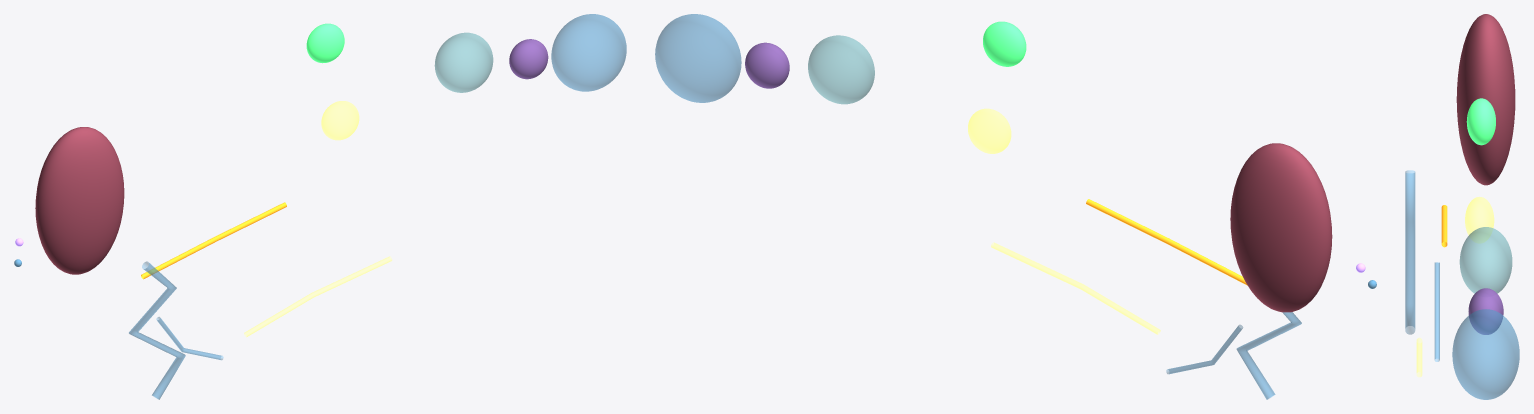
The model's file is equilibre_hydrosode_premium.glb.
3 views of the same model, side by side, from view 1: azimuth 30°, elevation 25°; view 2: azimuth 150°, elevation 25°; view 3: azimuth 270°, elevation 25° (orthographic). The views are drawn at different scales.
Parts seen in each view (by area): view 1: ORGAN_rein_regulation_hydrosodee, CELL_hypotonique_cellule_gonflee, CELL_hydratation_cellulaire_normale, ORGAN_nephron_tubule_collecteur, CELL_hypertonique_cellule_retractee, SENSOR_osmorecepteurs_hypothalamiques, SENSOR_barorecepteurs_sino_carotidiens, FLOW_ADH_vers_rein, FLOW_aldosterone_vers_rein; view 2: ORGAN_rein_regulation_hydrosodee, CELL_hypotonique_cellule_gonflee, CELL_hydratation_cellulaire_normale, CELL_hypertonique_cellule_retractee, SENSOR_barorecepteurs_sino_carotidiens, SENSOR_osmorecepteurs_hypothalamiques, FLOW_ADH_vers_rein, FLOW_aldosterone_vers_rein, ORGAN_nephron_tubule_collecteur; view 3: ORGAN_rein_regulation_hydrosodee, CELL_hypotonique_cellule_gonflee, CELL_hydratation_cellulaire_normale, ORGAN_nephron_tubule_collecteur, CELL_hypertonique_cellule_retractee, SENSOR_barorecepteurs_sino_carotidiens, SENSOR_osmorecepteurs_hypothalamiques, FLOW_reabsorption_eau_Na, FLOW_aldosterone_vers_rein, FLOW_ADH_vers_rein.
Boxes of the visible parts, <box> form: ORGAN_rein_regulation_hydrosodee: <box>35,127,124,274</box>; CELL_hypotonique_cellule_gonflee: <box>551,14,626,91</box>; CELL_hydratation_cellulaire_normale: <box>434,32,493,92</box>; ORGAN_nephron_tubule_collecteur: <box>129,261,185,399</box>; CELL_hypertonique_cellule_retractee: <box>509,39,548,79</box>; SENSOR_osmorecepteurs_hypothalamiques: <box>321,101,359,140</box>; SENSOR_barorecepteurs_sino_carotidiens: <box>306,23,344,63</box>; FLOW_ADH_vers_rein: <box>244,256,391,337</box>; FLOW_aldosterone_vers_rein: <box>141,202,286,279</box>; ORGAN_rein_regulation_hydrosodee: <box>1230,143,1332,312</box>; CELL_hypotonique_cellule_gonflee: <box>655,14,741,102</box>; CELL_hydratation_cellulaire_normale: <box>808,35,874,104</box>; CELL_hypertonique_cellule_retractee: <box>745,42,789,88</box>; SENSOR_barorecepteurs_sino_carotidiens: <box>983,21,1026,66</box>; SENSOR_osmorecepteurs_hypothalamiques: <box>968,108,1011,153</box>; FLOW_ADH_vers_rein: <box>991,242,1160,334</box>; FLOW_aldosterone_vers_rein: <box>1086,199,1247,285</box>; ORGAN_nephron_tubule_collecteur: <box>1236,312,1301,399</box>; ORGAN_rein_regulation_hydrosodee: <box>1456,14,1515,185</box>; CELL_hypotonique_cellule_gonflee: <box>1452,309,1519,399</box>; CELL_hydratation_cellulaire_normale: <box>1459,227,1512,293</box>; ORGAN_nephron_tubule_collecteur: <box>1405,170,1415,334</box>; CELL_hypertonique_cellule_retractee: <box>1468,288,1503,334</box>; SENSOR_barorecepteurs_sino_carotidiens: <box>1466,98,1495,145</box>; SENSOR_osmorecepteurs_hypothalamiques: <box>1465,196,1494,243</box>; FLOW_reabsorption_eau_Na: <box>1434,262,1439,361</box>; FLOW_aldosterone_vers_rein: <box>1441,205,1447,247</box>; FLOW_ADH_vers_rein: <box>1416,337,1422,377</box>.
Size of the model in its own units: 5.52 by 2.59 by 0.7817.
